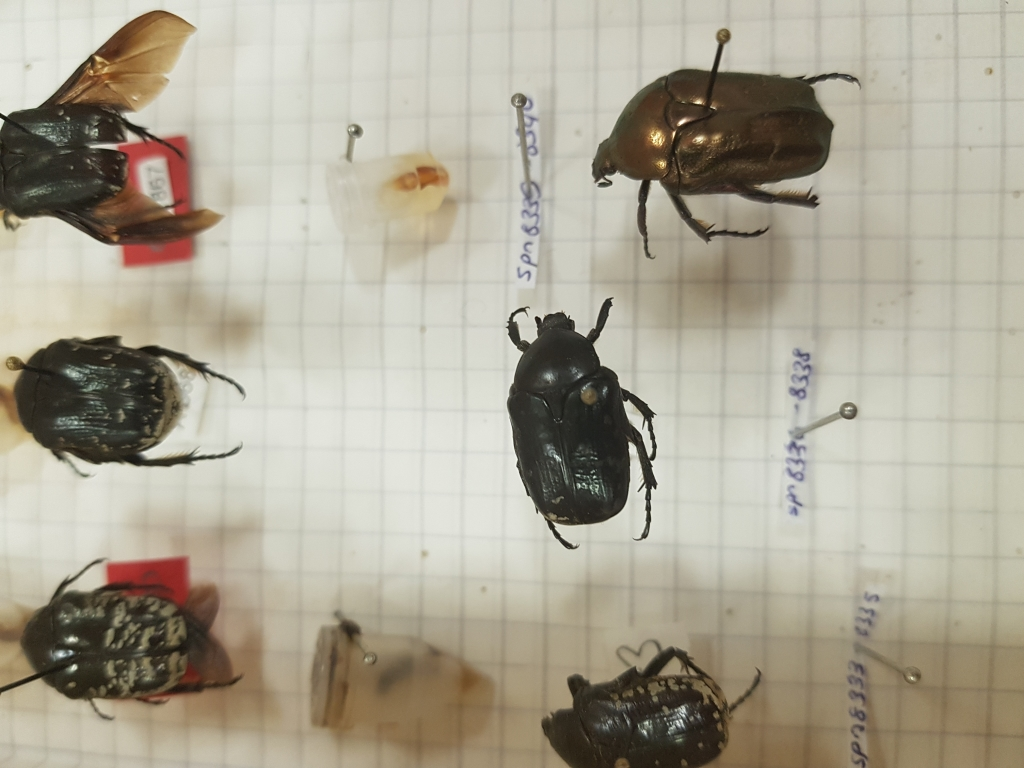Protaetia_funebris_funebris: (573, 61, 873, 264), (476, 294, 693, 554), (5, 319, 273, 483)
